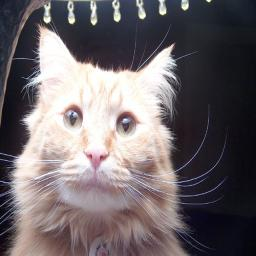catnose: (85, 145, 109, 169)
